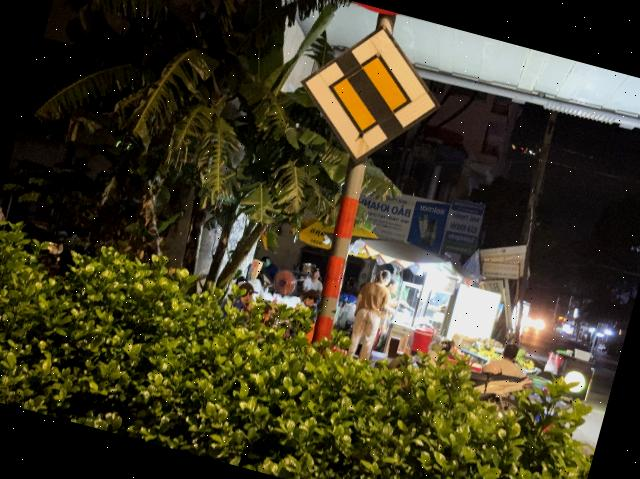het-duong-uu-tien: (283, 6, 458, 182)
